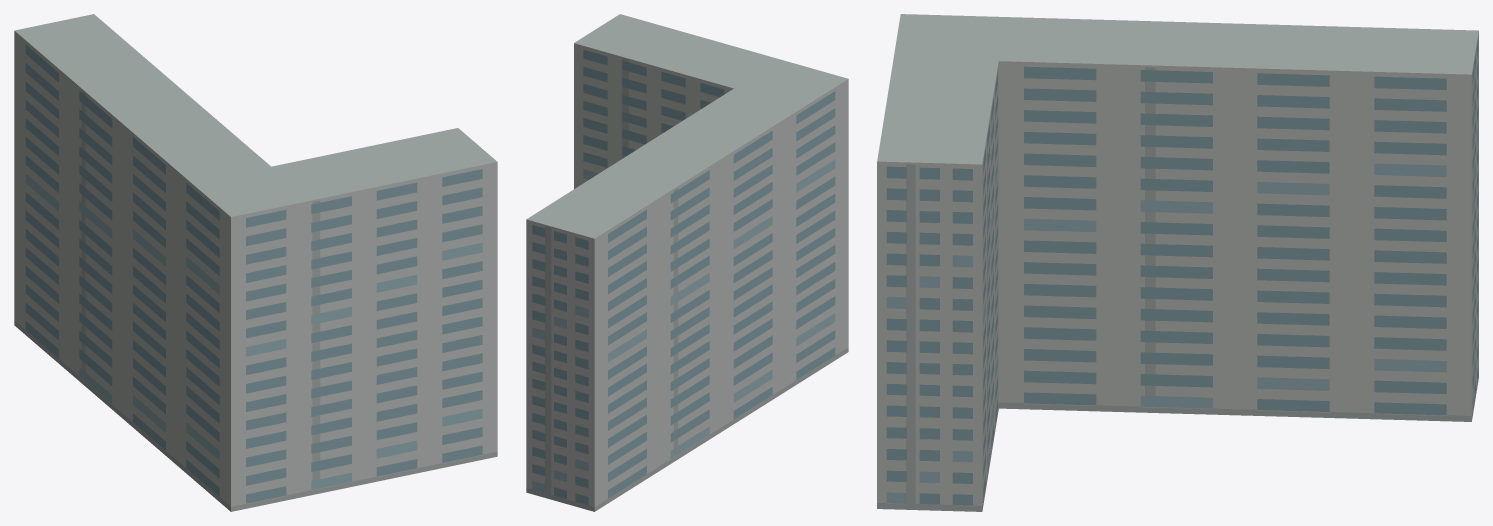
The model's file is residential-9ce1dfdc-df1f-4200-9ade-f659a374f6e1.glb.
3 views of the same model, side by side, from view 1: azimuth 30°, elevation 25°; view 2: azimuth 150°, elevation 25°; view 3: azimuth 270°, elevation 25° (orthographic). The views are drawn at different scales.
Parts seen in each view (by area): view 1: residential-9ce1dfdc-df1f-4200-9ade-f659a374f6e1.tmp; view 2: residential-9ce1dfdc-df1f-4200-9ade-f659a374f6e1.tmp; view 3: residential-9ce1dfdc-df1f-4200-9ade-f659a374f6e1.tmp.
Part boxes in pixels (x1,y1,x2,y2): residential-9ce1dfdc-df1f-4200-9ade-f659a374f6e1.tmp: [14, 14, 497, 511]; residential-9ce1dfdc-df1f-4200-9ade-f659a374f6e1.tmp: [526, 14, 848, 511]; residential-9ce1dfdc-df1f-4200-9ade-f659a374f6e1.tmp: [877, 14, 1478, 511].
Size of the model in its own units: 39.96 by 43 by 67.5.
